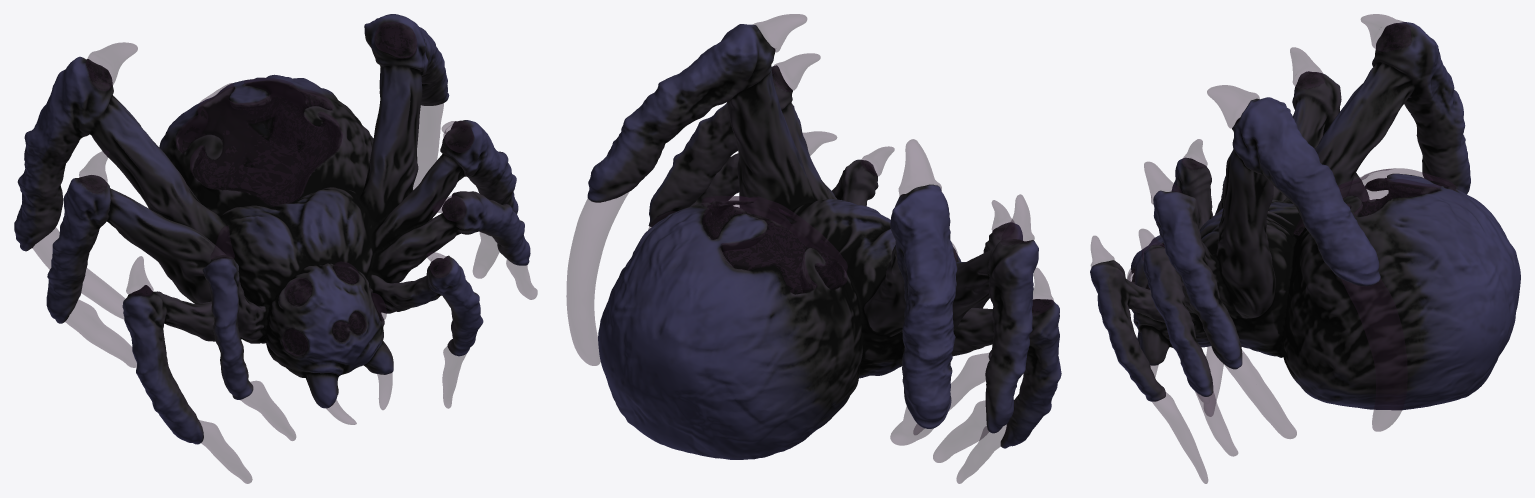
Rendered from Prop - Spider.glb.
3 views of the same model, side by side, from view 1: azimuth 30°, elevation 25°; view 2: azimuth 150°, elevation 25°; view 3: azimuth 270°, elevation 25° (orthographic). The views are drawn at different scales.
Visible parts, largest first — view 1: spider; view 2: spider; view 3: spider.
Boxes of the visible parts, box(x1,y1,x2,y2) form: spider: box(14, 14, 537, 483); spider: box(566, 14, 1061, 483); spider: box(1090, 14, 1520, 483).
Bounding box in the file's own units: 0.9347 × 0.8445 × 0.8183.
Materials: 2 (2 with a texture image).
